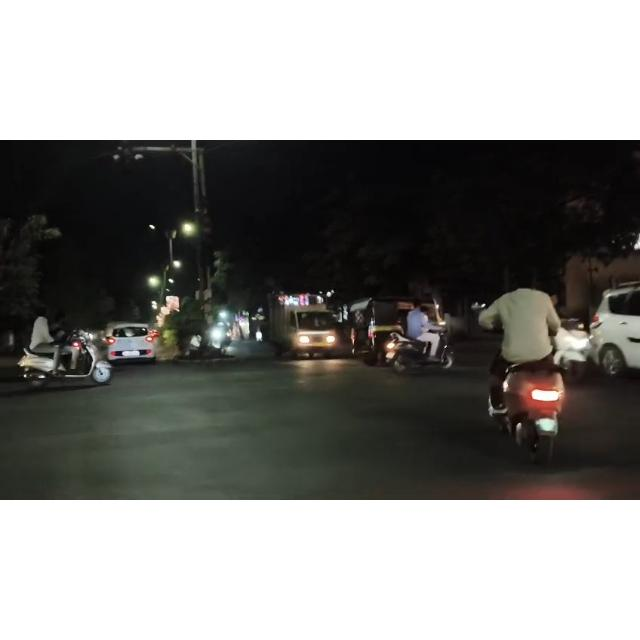auto: (346, 288, 452, 364)
car: (583, 279, 640, 387), (103, 320, 163, 364)
